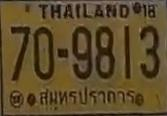0: (33, 26, 54, 79)
1: (123, 25, 130, 75)
3: (139, 25, 159, 77)
7: (10, 25, 30, 79)
8: (95, 25, 114, 78)
9: (72, 25, 92, 78)
SPK: (36, 83, 141, 109)
